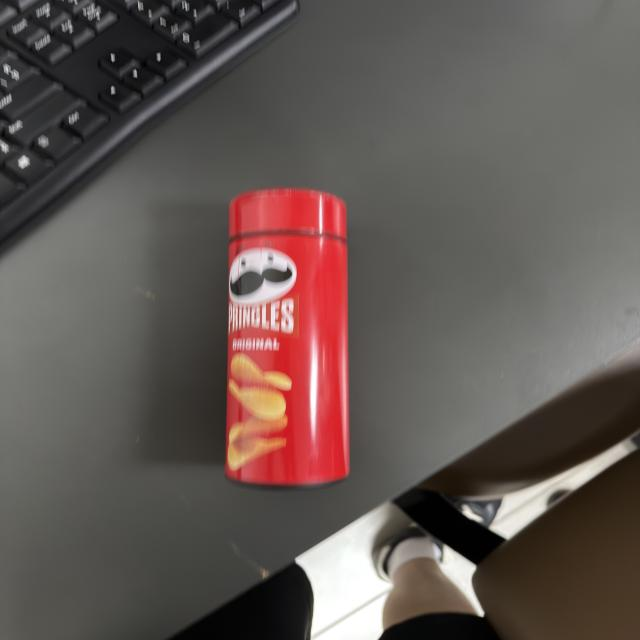water bottle: (220, 186, 356, 489)
